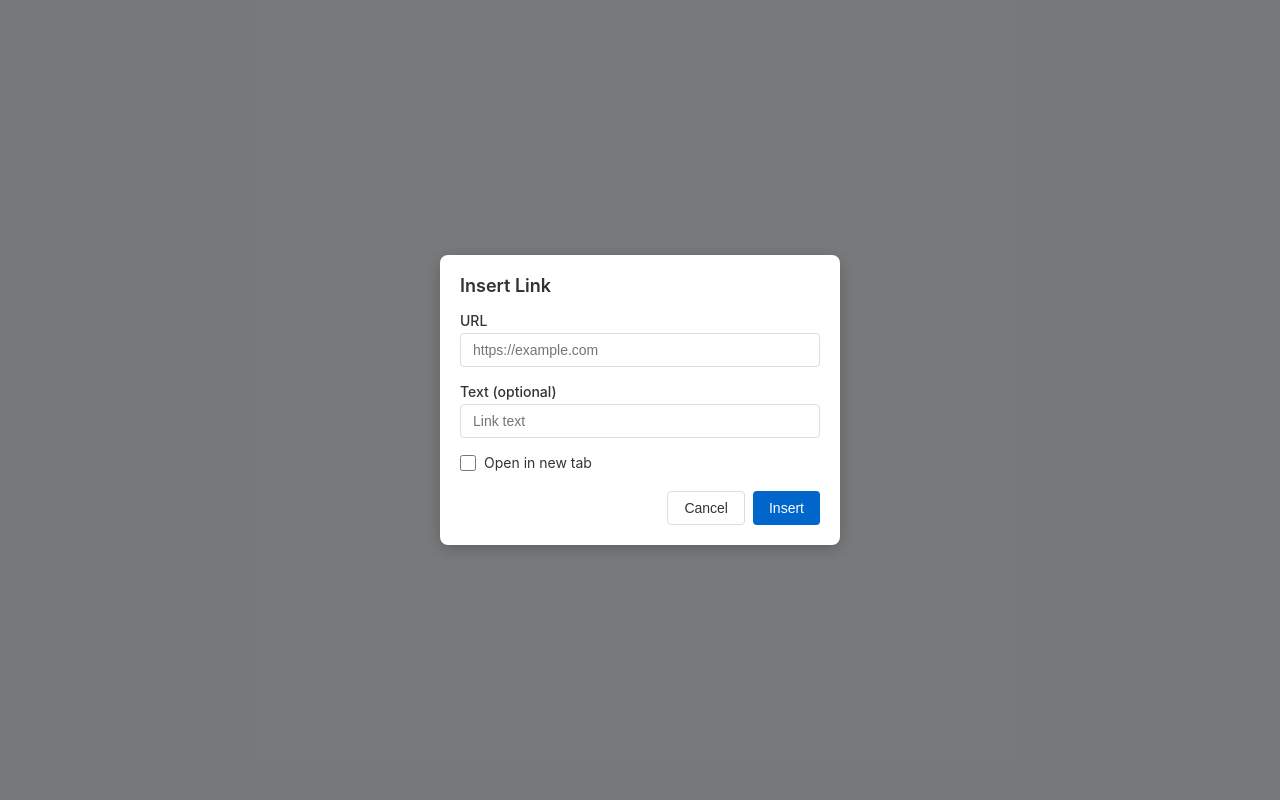
Scenario: LinkDialog › Form Validation › clears error when user types in URL field
This screenshot has width=1280, height=800.
Click the button "Insert" at [786, 508], box [753,491,820,525]
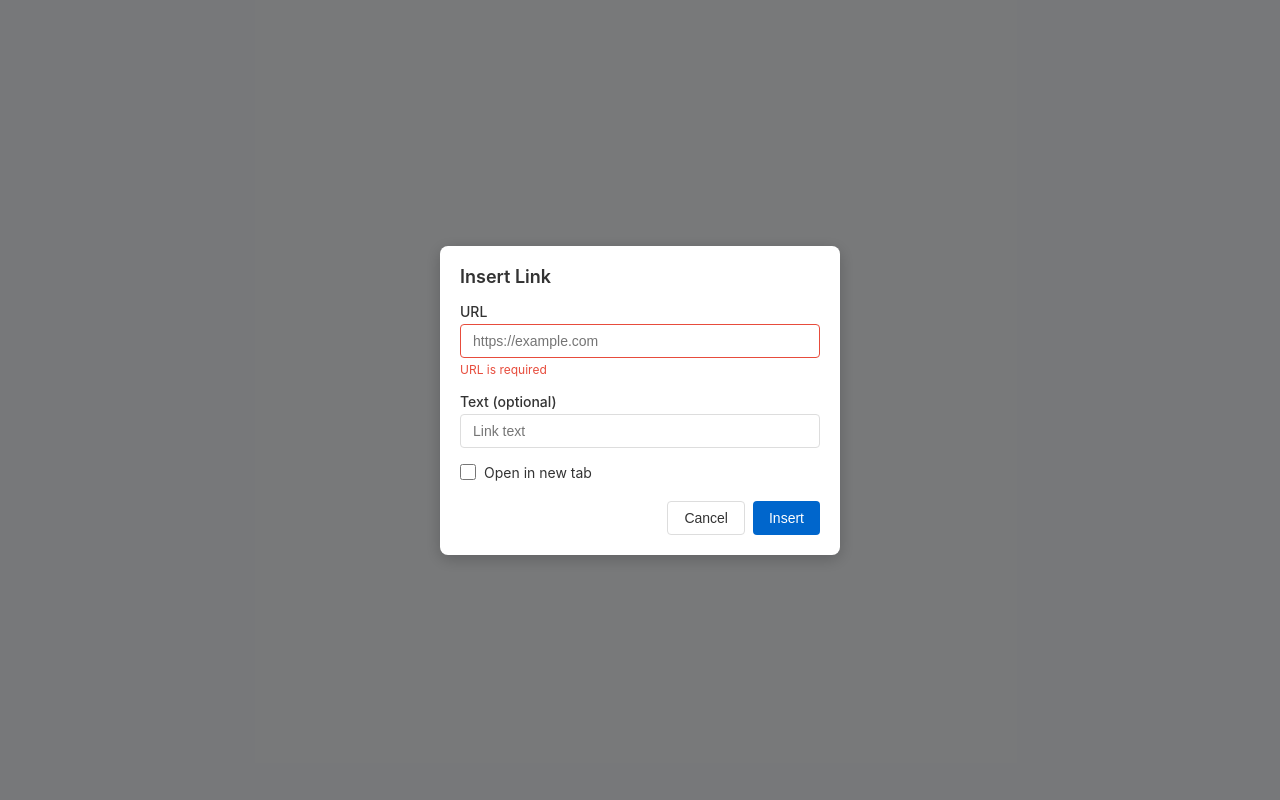
Check: the text "URL is required" is shown, box [460,362,547,376]
Type "h" into the field labelled "URL" at [640, 340], box [460,324,820,358]
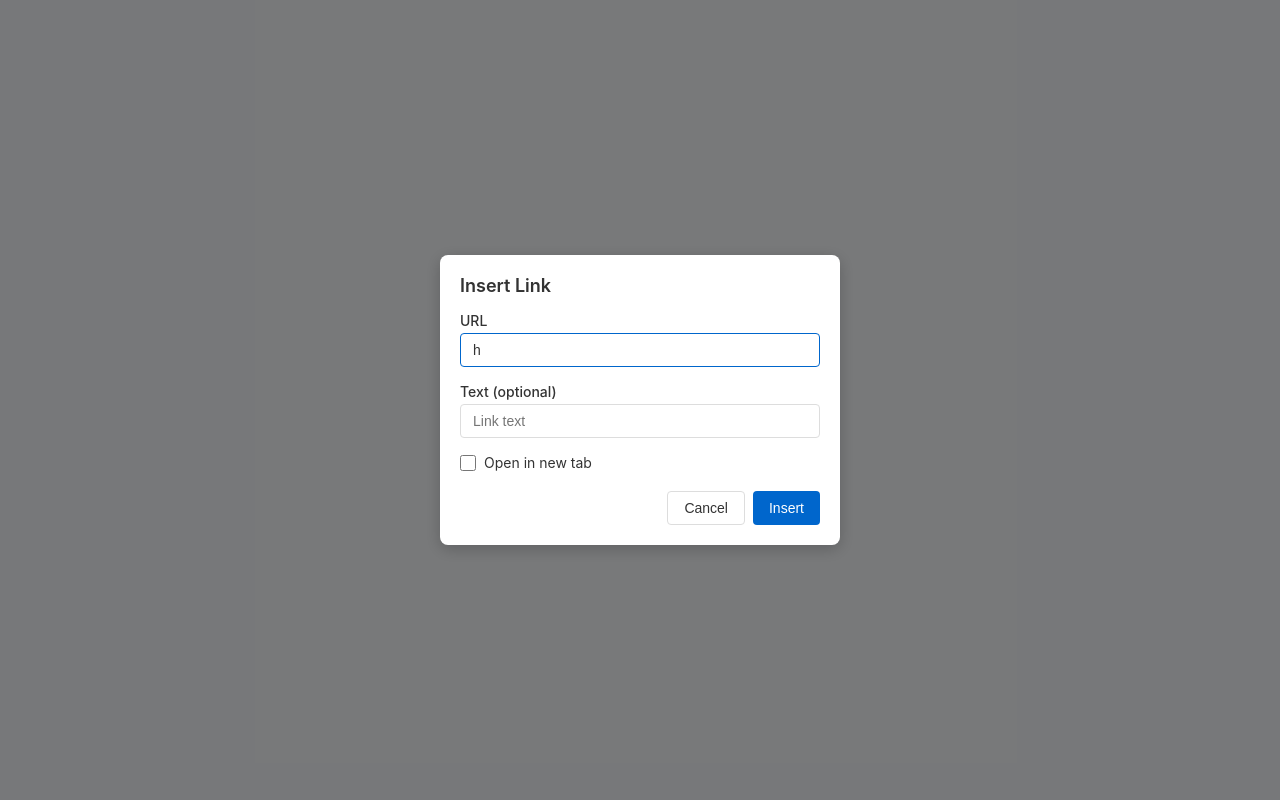
Check: the text "URL is required" is gone
